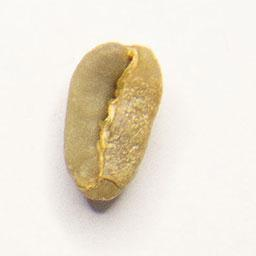longberry: (60, 38, 165, 205)
